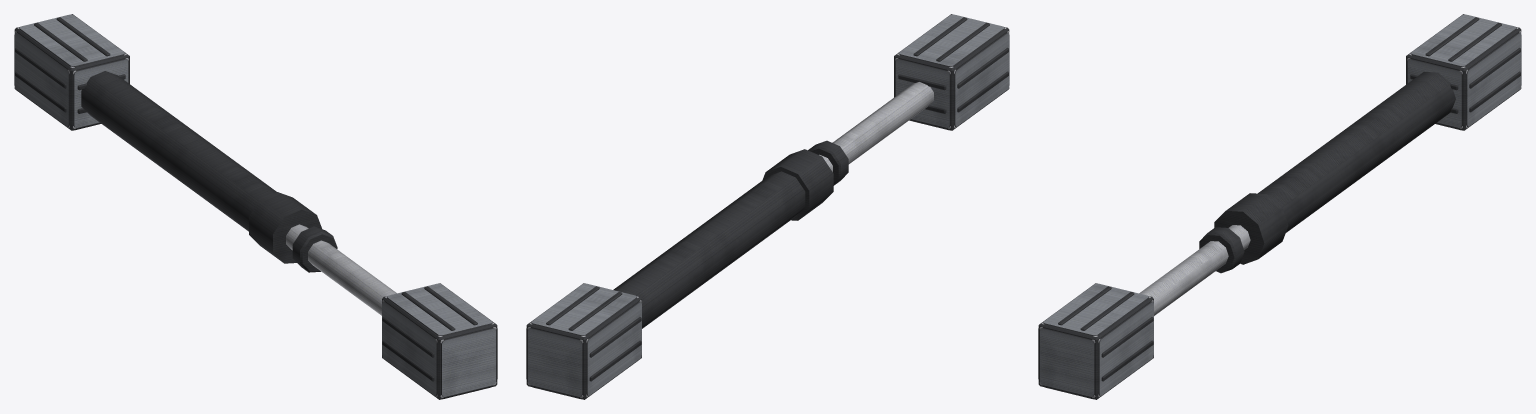
The model's file is R4C_ROD_LONG.glb.
3 views of the same model, side by side, from view 1: azimuth 30°, elevation 25°; view 2: azimuth 150°, elevation 25°; view 3: azimuth 330°, elevation 25° (orthographic).
Visible parts, largest first — view 1: R4C_ROD_LONG; view 2: R4C_ROD_LONG; view 3: R4C_ROD_LONG.
Part boxes in pixels (<box>): R4C_ROD_LONG: <box>14,14,497,399</box>; R4C_ROD_LONG: <box>526,14,1009,399</box>; R4C_ROD_LONG: <box>1038,14,1521,399</box>.
Size of the model in its own units: 0.24 by 0.233 by 2.72.
4 materials, 4 textured.
